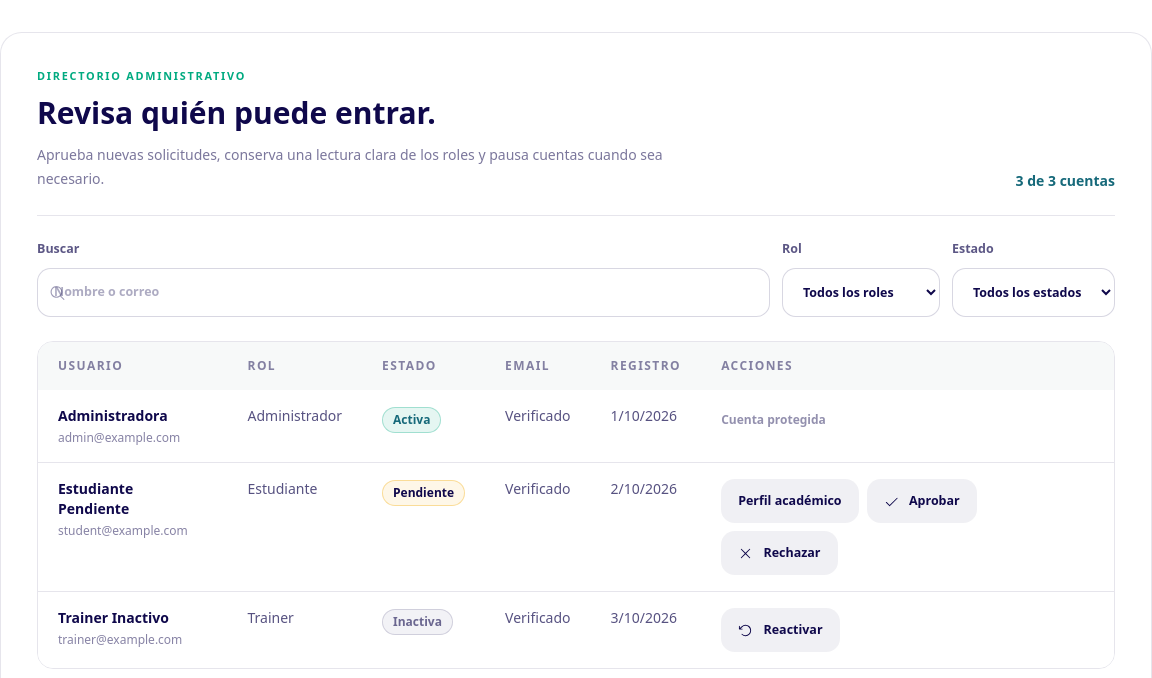
Scenario: UserManagement › supports rejection, reopening, inactivation and reactivation actions
Click the button "Rechazar" at (779, 553), box [721,531,838,575]
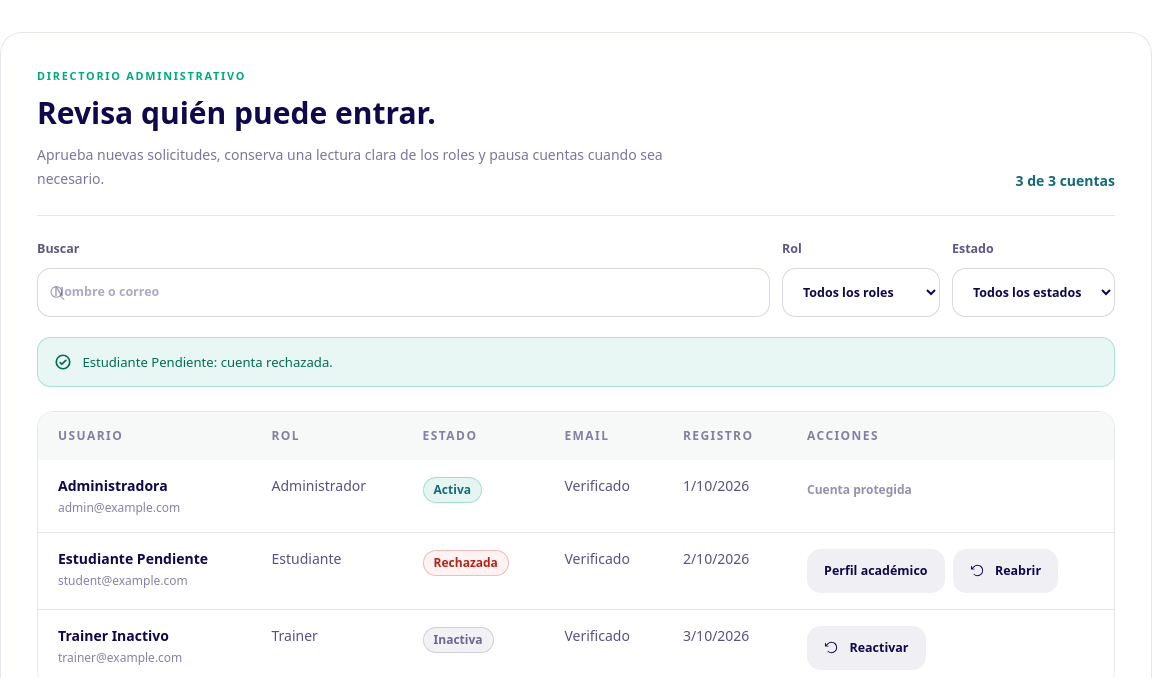
Now the button "Reabrir" is shown
Click the button "Reabrir" at (1005, 571), box [952,549,1058,593]
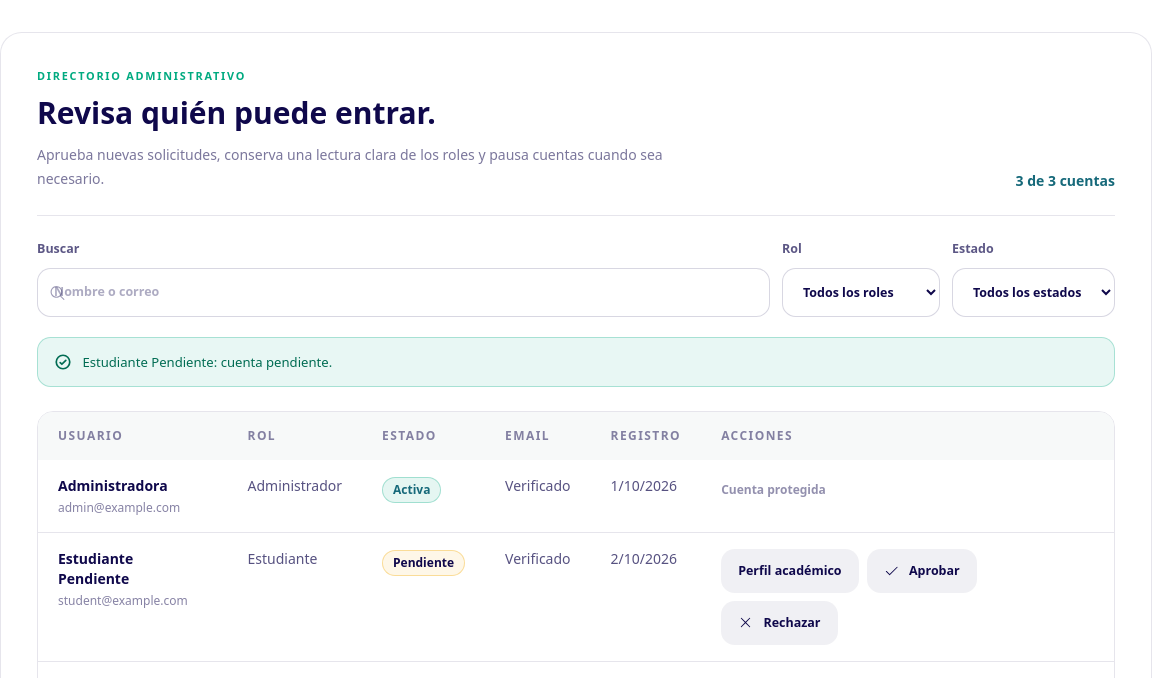
Now the button "Aprobar" is shown
Click the button "Aprobar" at (922, 571), box [867,549,977,593]
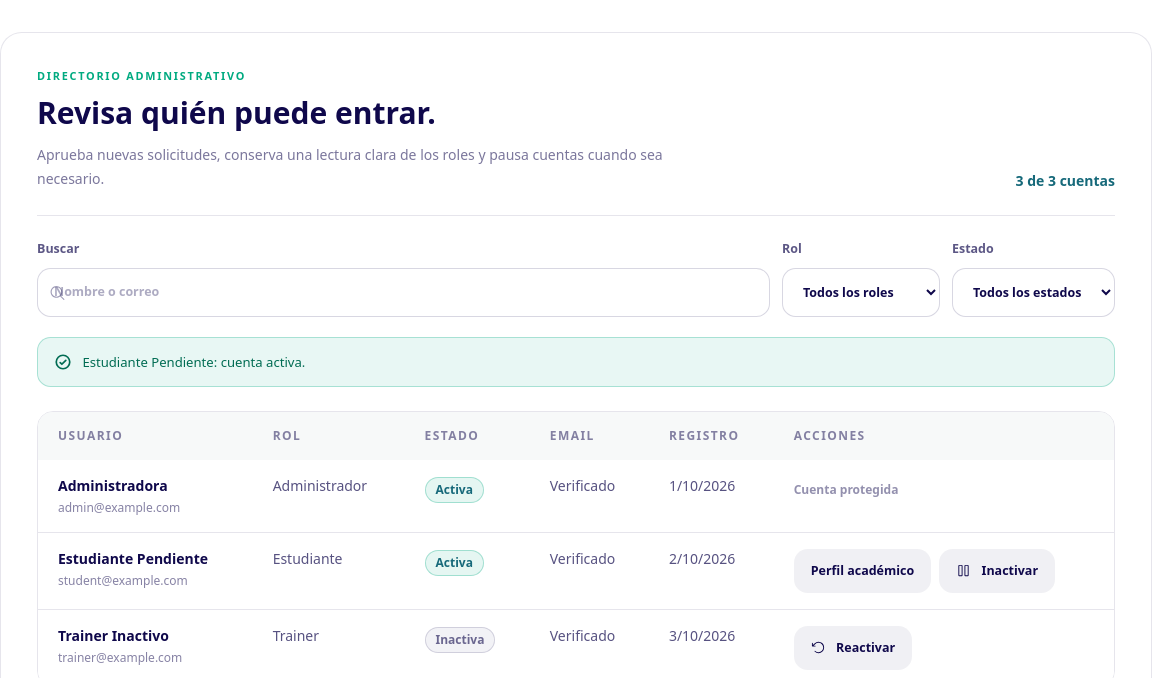
Now the button "Inactivar" is shown
Click the button "Inactivar" at (997, 571), box [939,549,1055,593]
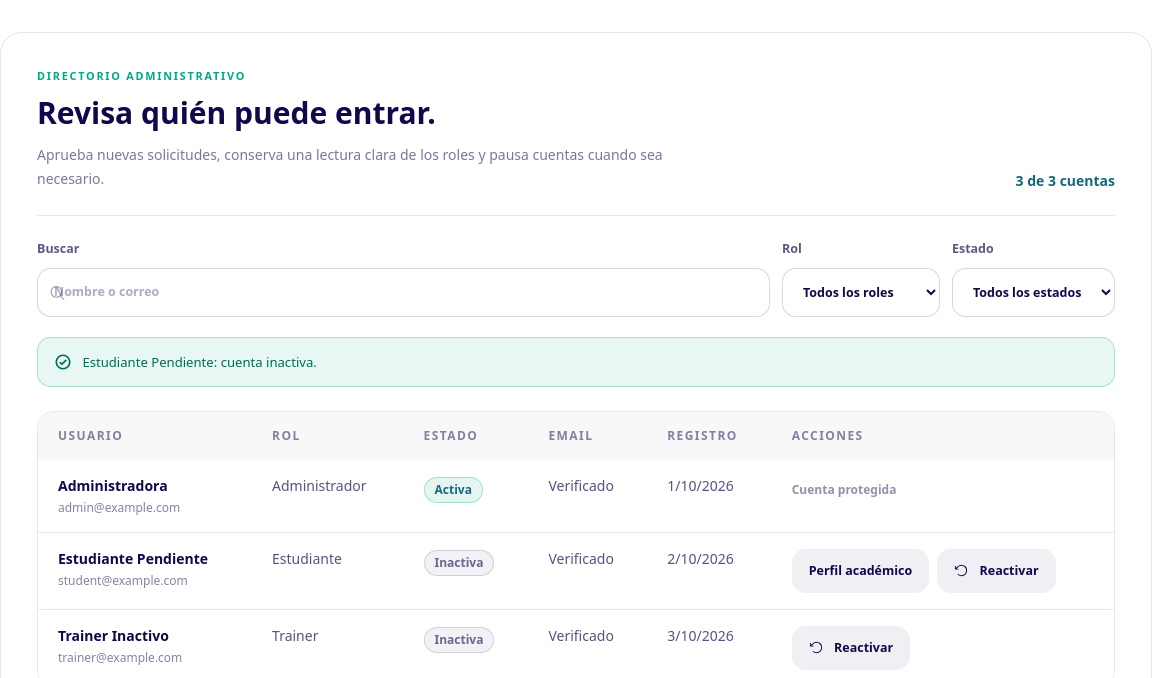
Now the button "Reactivar" next to "Perfil académico" is shown
Click the button "Reactivar" next to "Perfil académico" at (996, 571), box [937,549,1056,593]
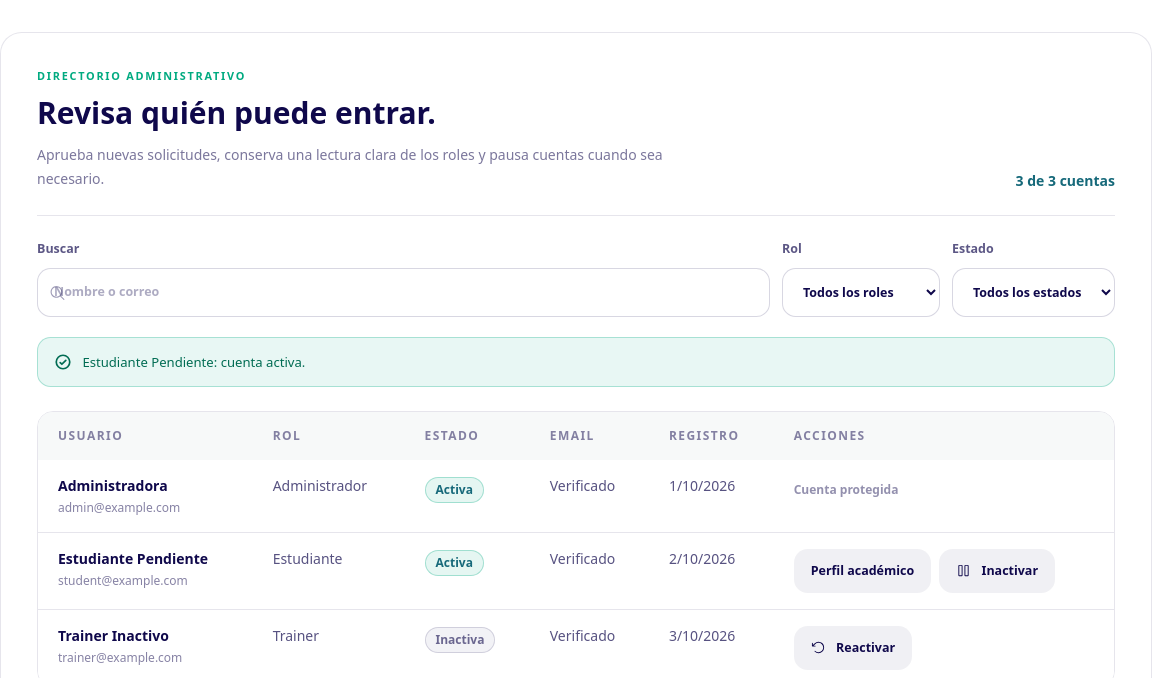
Now the button "Inactivar" is shown, box [939,549,1055,593]
